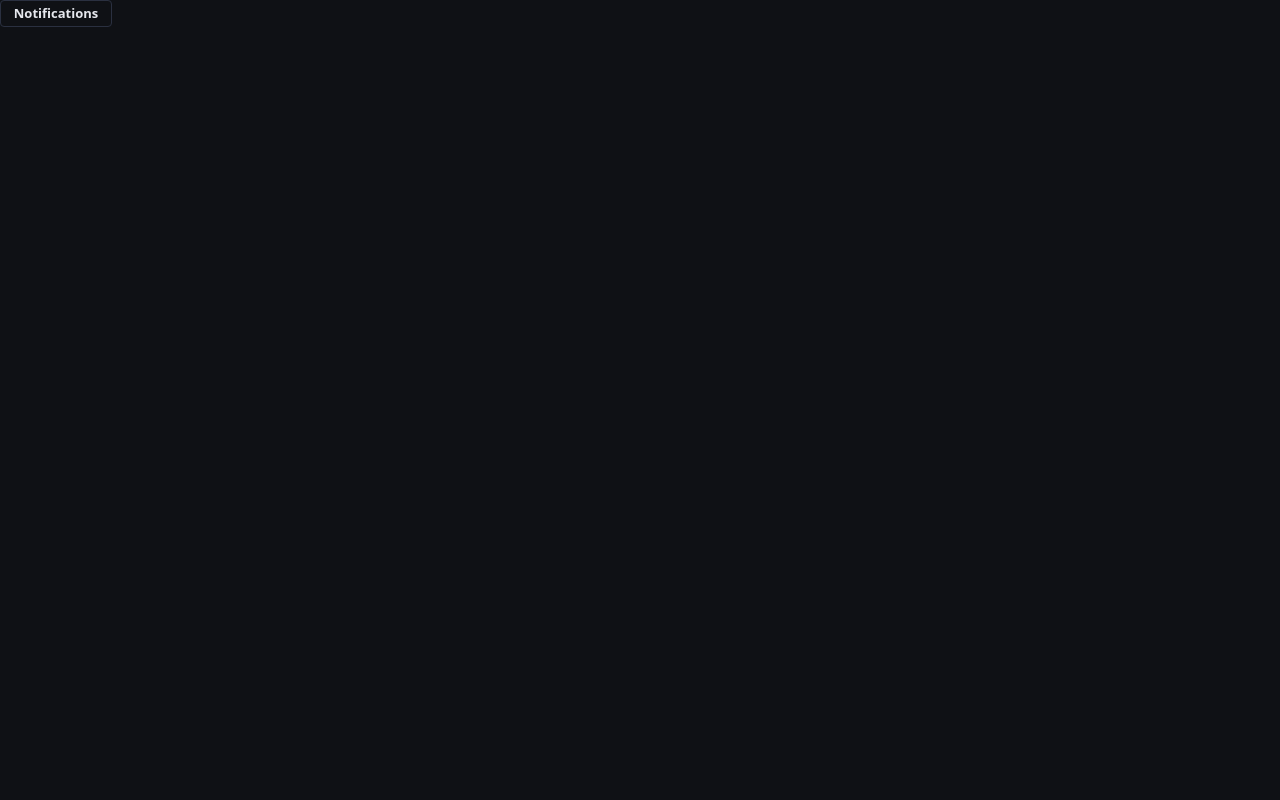
Test: notifications › explains the empty inbox and keeps sound off by default
Later steps or results of the test are not shown.
Step 1. Click the button with aria-label "Notifications, 0 unread" → (56, 14), box [0,0,112,27]
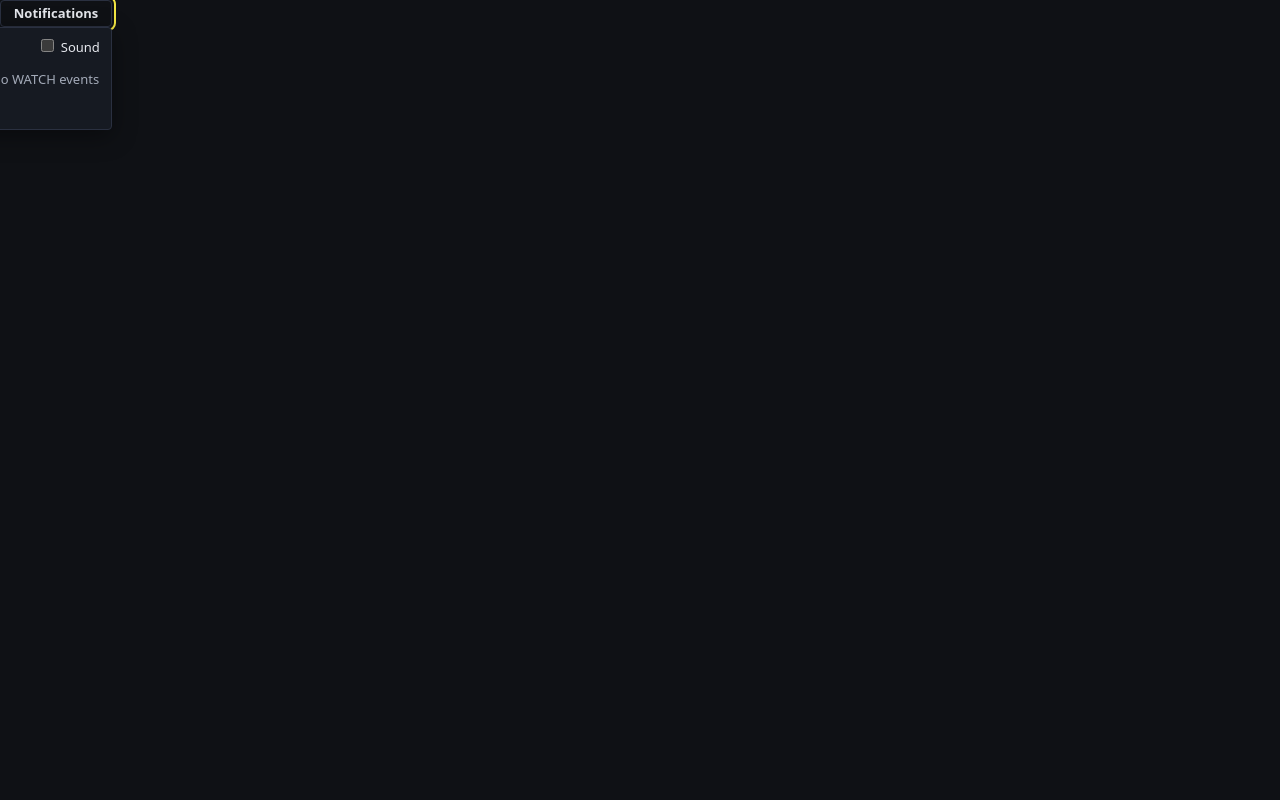
Now the checkbox labelled "Sound" is not checked, box [41,39,54,52]
